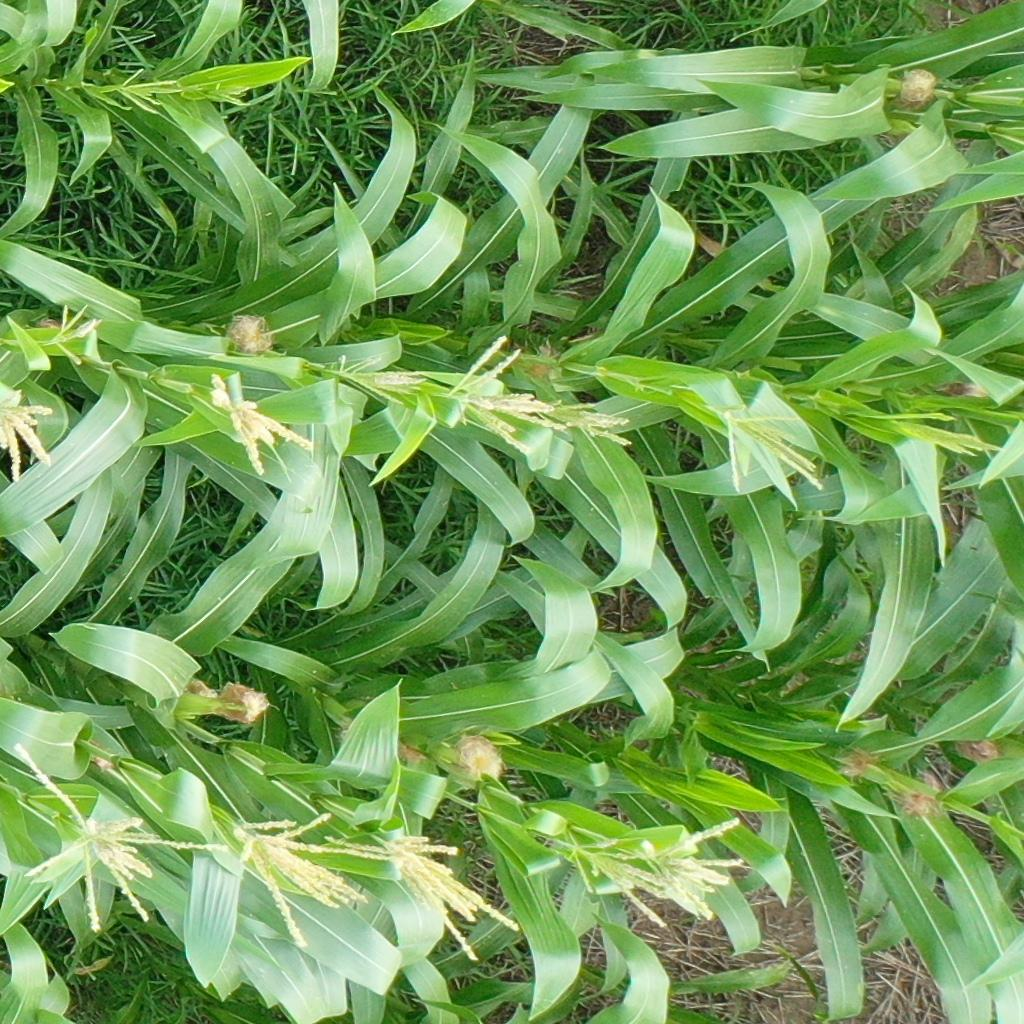Tassel: (11, 740, 231, 933), (324, 829, 523, 961), (228, 813, 368, 948), (447, 335, 566, 454), (562, 830, 674, 930), (208, 375, 314, 479), (711, 397, 824, 494), (640, 818, 745, 918), (1, 387, 59, 482), (335, 354, 424, 406), (558, 394, 635, 450), (900, 419, 1003, 458), (48, 303, 102, 370), (118, 67, 183, 114), (200, 81, 250, 109)
